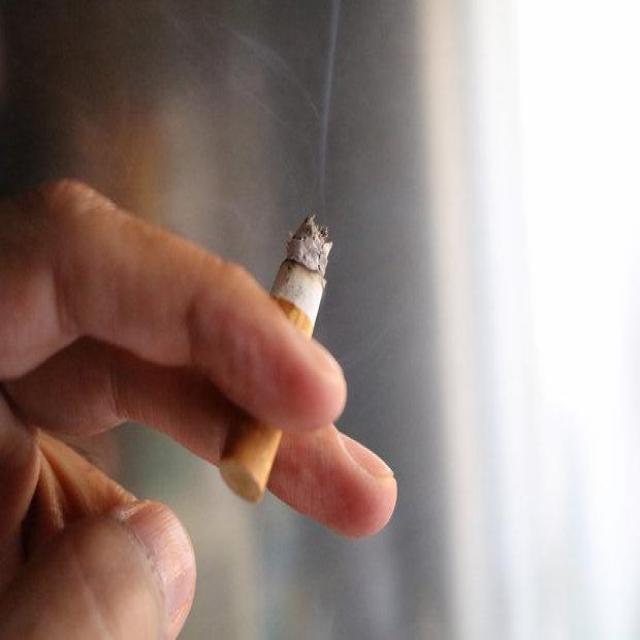cigarette: (264, 202, 346, 343)
